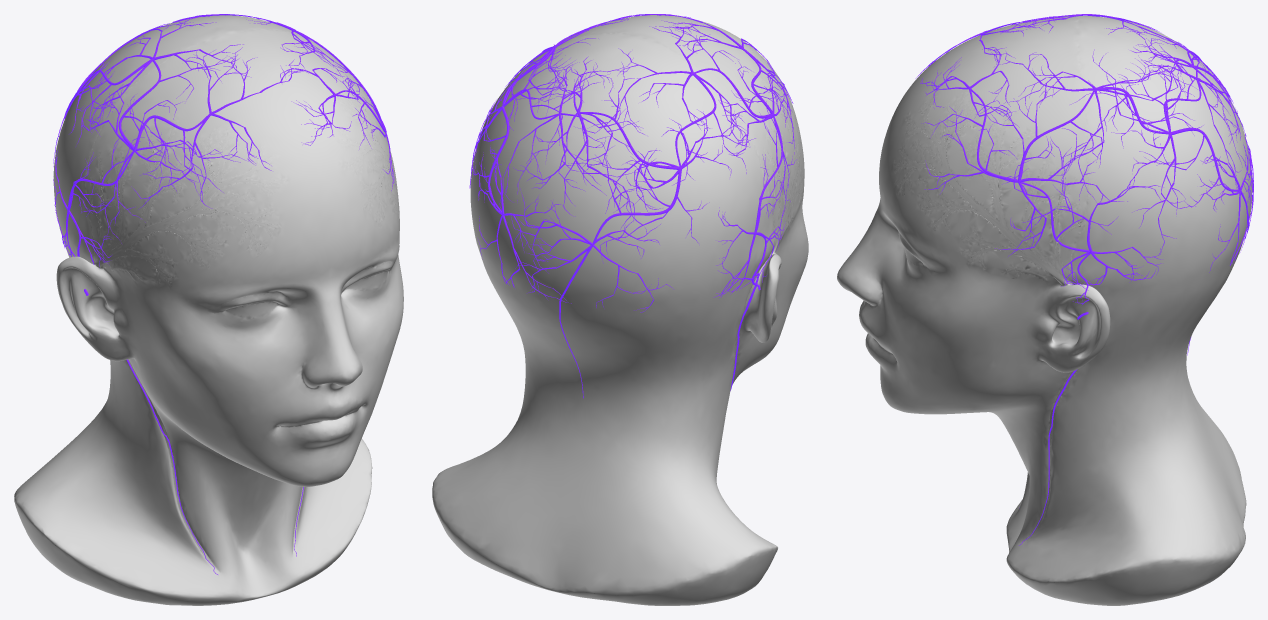
The model's file is cymba-neural-mannequin-organic-detailed-desktop.glb.
3 views of the same model, side by side, from view 1: azimuth 30°, elevation 25°; view 2: azimuth 150°, elevation 25°; view 3: azimuth 270°, elevation 25° (orthographic). The views are drawn at different scales.
Parts seen in each view (by area): view 1: Cymba_Marble_Mannequin, Purple_Surface_Nerve_Fibres; view 2: Cymba_Marble_Mannequin, Purple_Surface_Nerve_Fibres; view 3: Cymba_Marble_Mannequin, Purple_Surface_Nerve_Fibres.
Boxes of the visible parts, box(x1,y1,x2,y2) form: Cymba_Marble_Mannequin: box(14, 15, 403, 605); Purple_Surface_Nerve_Fibres: box(53, 14, 395, 574); Cymba_Marble_Mannequin: box(432, 15, 808, 605); Purple_Surface_Nerve_Fibres: box(469, 14, 796, 398); Cymba_Marble_Mannequin: box(837, 16, 1252, 605); Purple_Surface_Nerve_Fibres: box(915, 14, 1253, 545).
Bounding box in the file's own units: 2.74 × 4.27 × 3.06.
